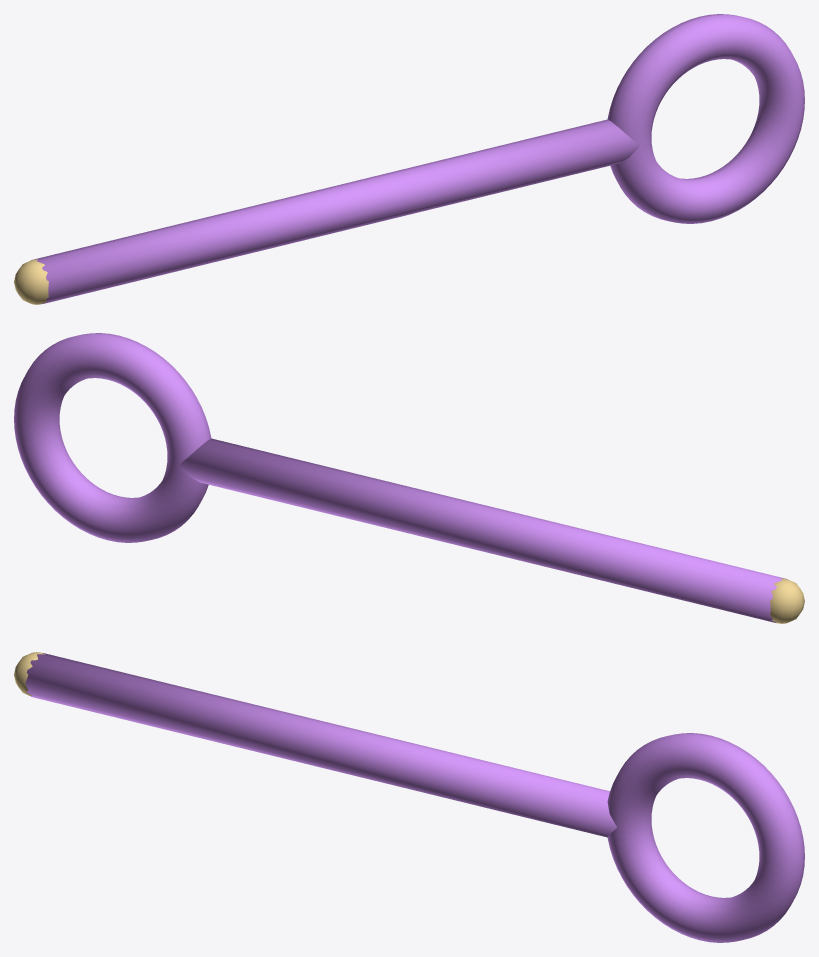
Rendered from key-pin-DGqY7vH0.glb.
3 views of the same model, one above another, from view 1: azimuth 30°, elevation 25°; view 2: azimuth 150°, elevation 25°; view 3: azimuth 330°, elevation 25° (orthographic).
Visible parts, largest first — view 1: R3D_key-pin_Body_0, R3D_key-pin_Body_1, R3D_key-pin_Tip_0; view 2: R3D_key-pin_Body_0, R3D_key-pin_Body_1, R3D_key-pin_Tip_0; view 3: R3D_key-pin_Body_0, R3D_key-pin_Body_1, R3D_key-pin_Tip_0.
Boxes of the visible parts, x1,y1,x2,y2 form: R3D_key-pin_Body_0: [31, 119, 639, 303]; R3D_key-pin_Body_1: [607, 14, 804, 223]; R3D_key-pin_Tip_0: [14, 259, 48, 304]; R3D_key-pin_Body_0: [179, 438, 787, 622]; R3D_key-pin_Body_1: [14, 333, 211, 542]; R3D_key-pin_Tip_0: [770, 578, 804, 623]; R3D_key-pin_Body_0: [25, 653, 616, 837]; R3D_key-pin_Body_1: [607, 733, 804, 942]; R3D_key-pin_Tip_0: [14, 652, 44, 695].
Bounding box in the file's own units: 3.58 × 0.88 × 0.18.
